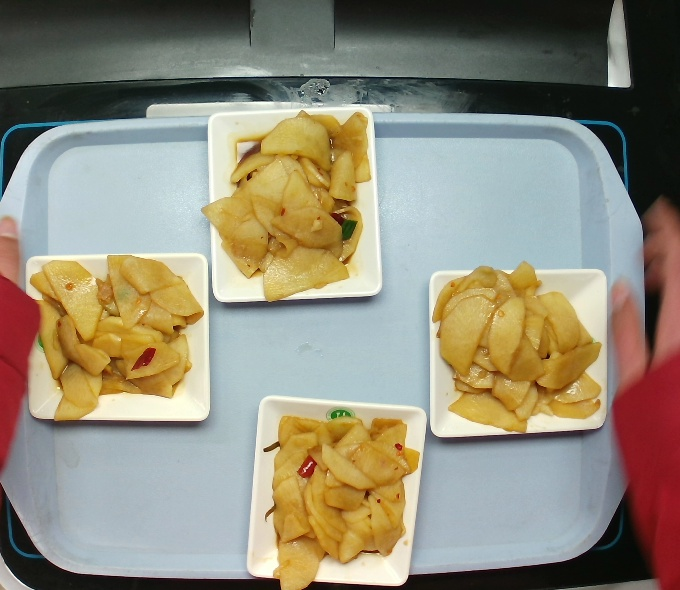wcq-YanLuoBo: (203, 113, 372, 299), (433, 259, 599, 441), (31, 252, 201, 426), (259, 408, 415, 582)
